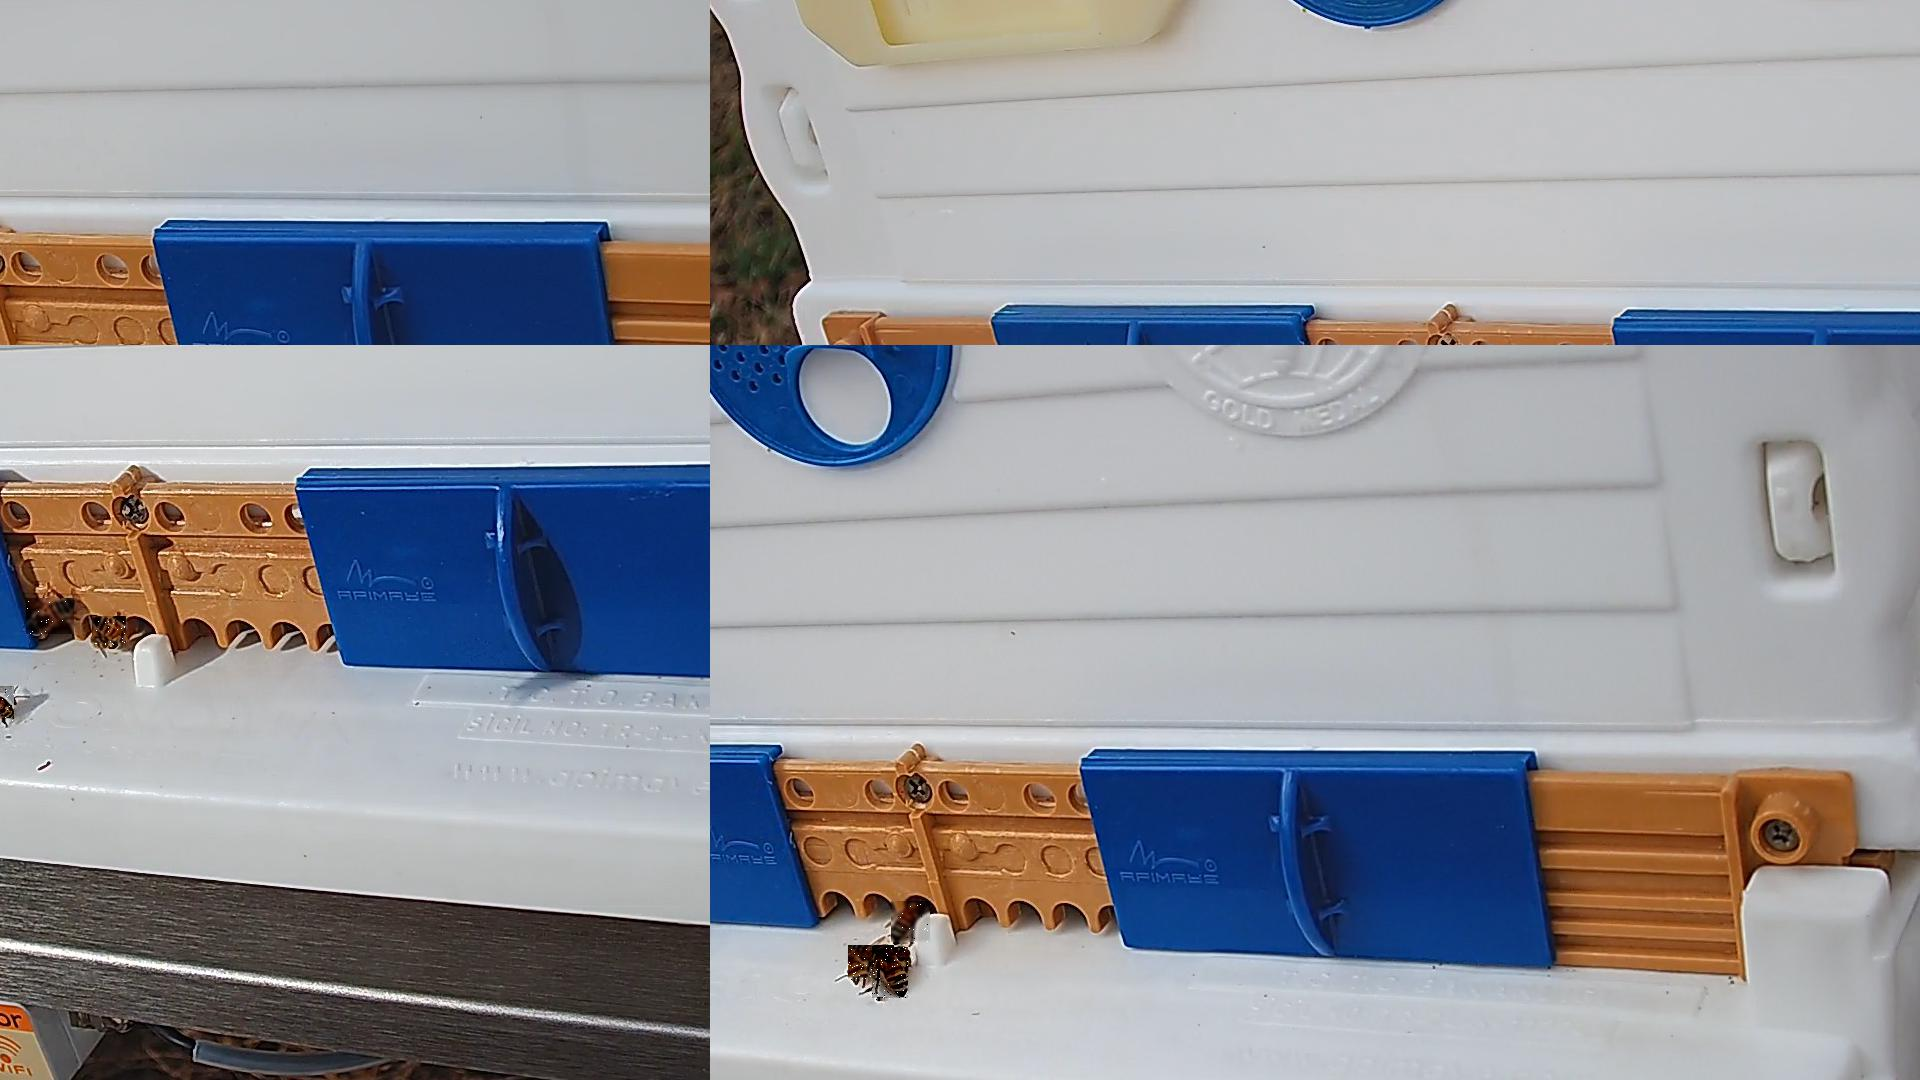bee: (872, 948, 909, 1002), (26, 598, 75, 635), (891, 902, 931, 945), (848, 946, 895, 982), (92, 617, 127, 647), (0, 686, 16, 723)
